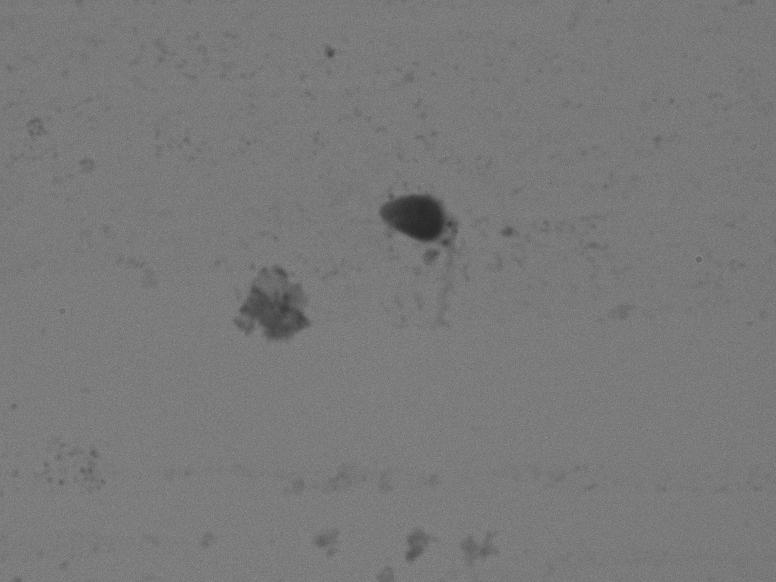Abnormal: (333, 143, 509, 365)
